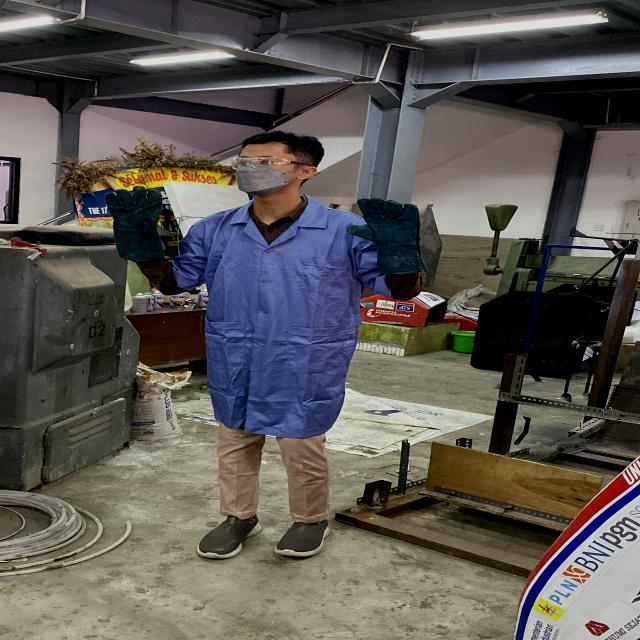face_mask: (224, 152, 300, 196)
glasses: (224, 153, 317, 172)
hand_glove: (341, 196, 428, 248), (100, 184, 172, 237)
head_nohelmet: (228, 124, 326, 156)
person: (94, 120, 438, 569)
shoes: (188, 507, 273, 564), (268, 512, 341, 563)
